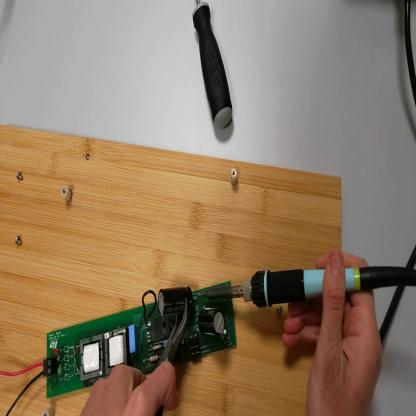hand: (285, 250, 384, 416), (80, 359, 180, 413)
high voltage board: (2, 282, 239, 416)
pliers: (162, 298, 193, 362)
screwdriver-: (193, 3, 234, 132)
welder probe tip: (198, 267, 415, 310)
working area: (3, 126, 344, 412)
